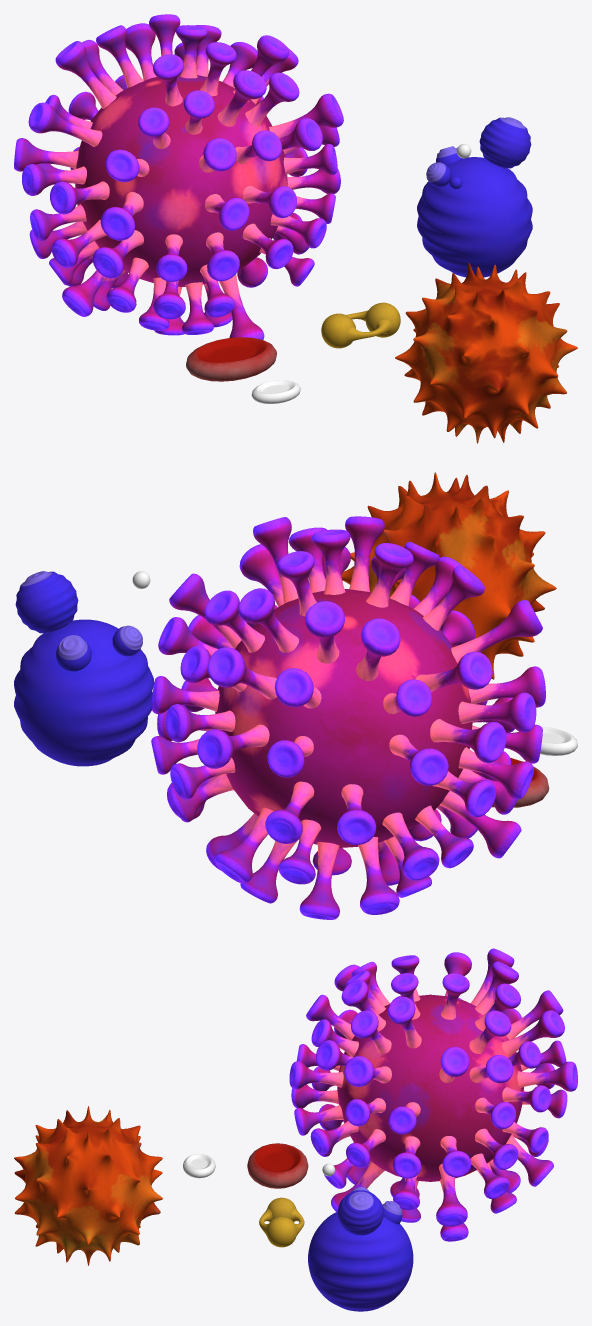
Rendered from Virus_Todos.fbx.
The picture shows the model from 3 angles, top to bottom: view 1: azimuth 30°, elevation 25°; view 2: azimuth 150°, elevation 25°; view 3: azimuth 270°, elevation 25°; orthographic projection. The views are drawn at different scales.
Visible parts, largest first — view 1: Corona, Virus_01, Particula, Globulo_rojo, Oxigeno, Globulo_blanco; view 2: Corona, Particula, Virus_01, Globulo_blanco, Globulo_rojo; view 3: Corona, Virus_01, Particula, Globulo_rojo, Oxigeno, Globulo_blanco.
Boxes of the visible parts, x1=… form: Corona: x1=14, y1=14, x2=343, y2=339; Virus_01: x1=395, y1=263, x2=577, y2=443; Particula: x1=417, y1=117, x2=532, y2=277; Globulo_rojo: x1=186, y1=337, x2=276, y2=381; Oxigeno: x1=321, y1=302, x2=400, y2=348; Globulo_blanco: x1=251, y1=380, x2=300, y2=403; Corona: x1=151, y1=516, x2=545, y2=919; Particula: x1=14, y1=571, x2=154, y2=766; Virus_01: x1=341, y1=472, x2=556, y2=679; Globulo_blanco: x1=540, y1=727, x2=577, y2=755; Globulo_rojo: x1=473, y1=757, x2=549, y2=807; Corona: x1=289, y1=948, x2=577, y2=1241; Virus_01: x1=14, y1=1106, x2=163, y2=1265; Particula: x1=308, y1=1163, x2=413, y2=1311; Globulo_rojo: x1=247, y1=1143, x2=308, y2=1188; Oxigeno: x1=259, y1=1197, x2=304, y2=1247; Globulo_blanco: x1=183, y1=1154, x2=215, y2=1178.
Bounding box in the file's own units: 11.91 × 7.08 × 14.78.
2 materials, 1 textured.
